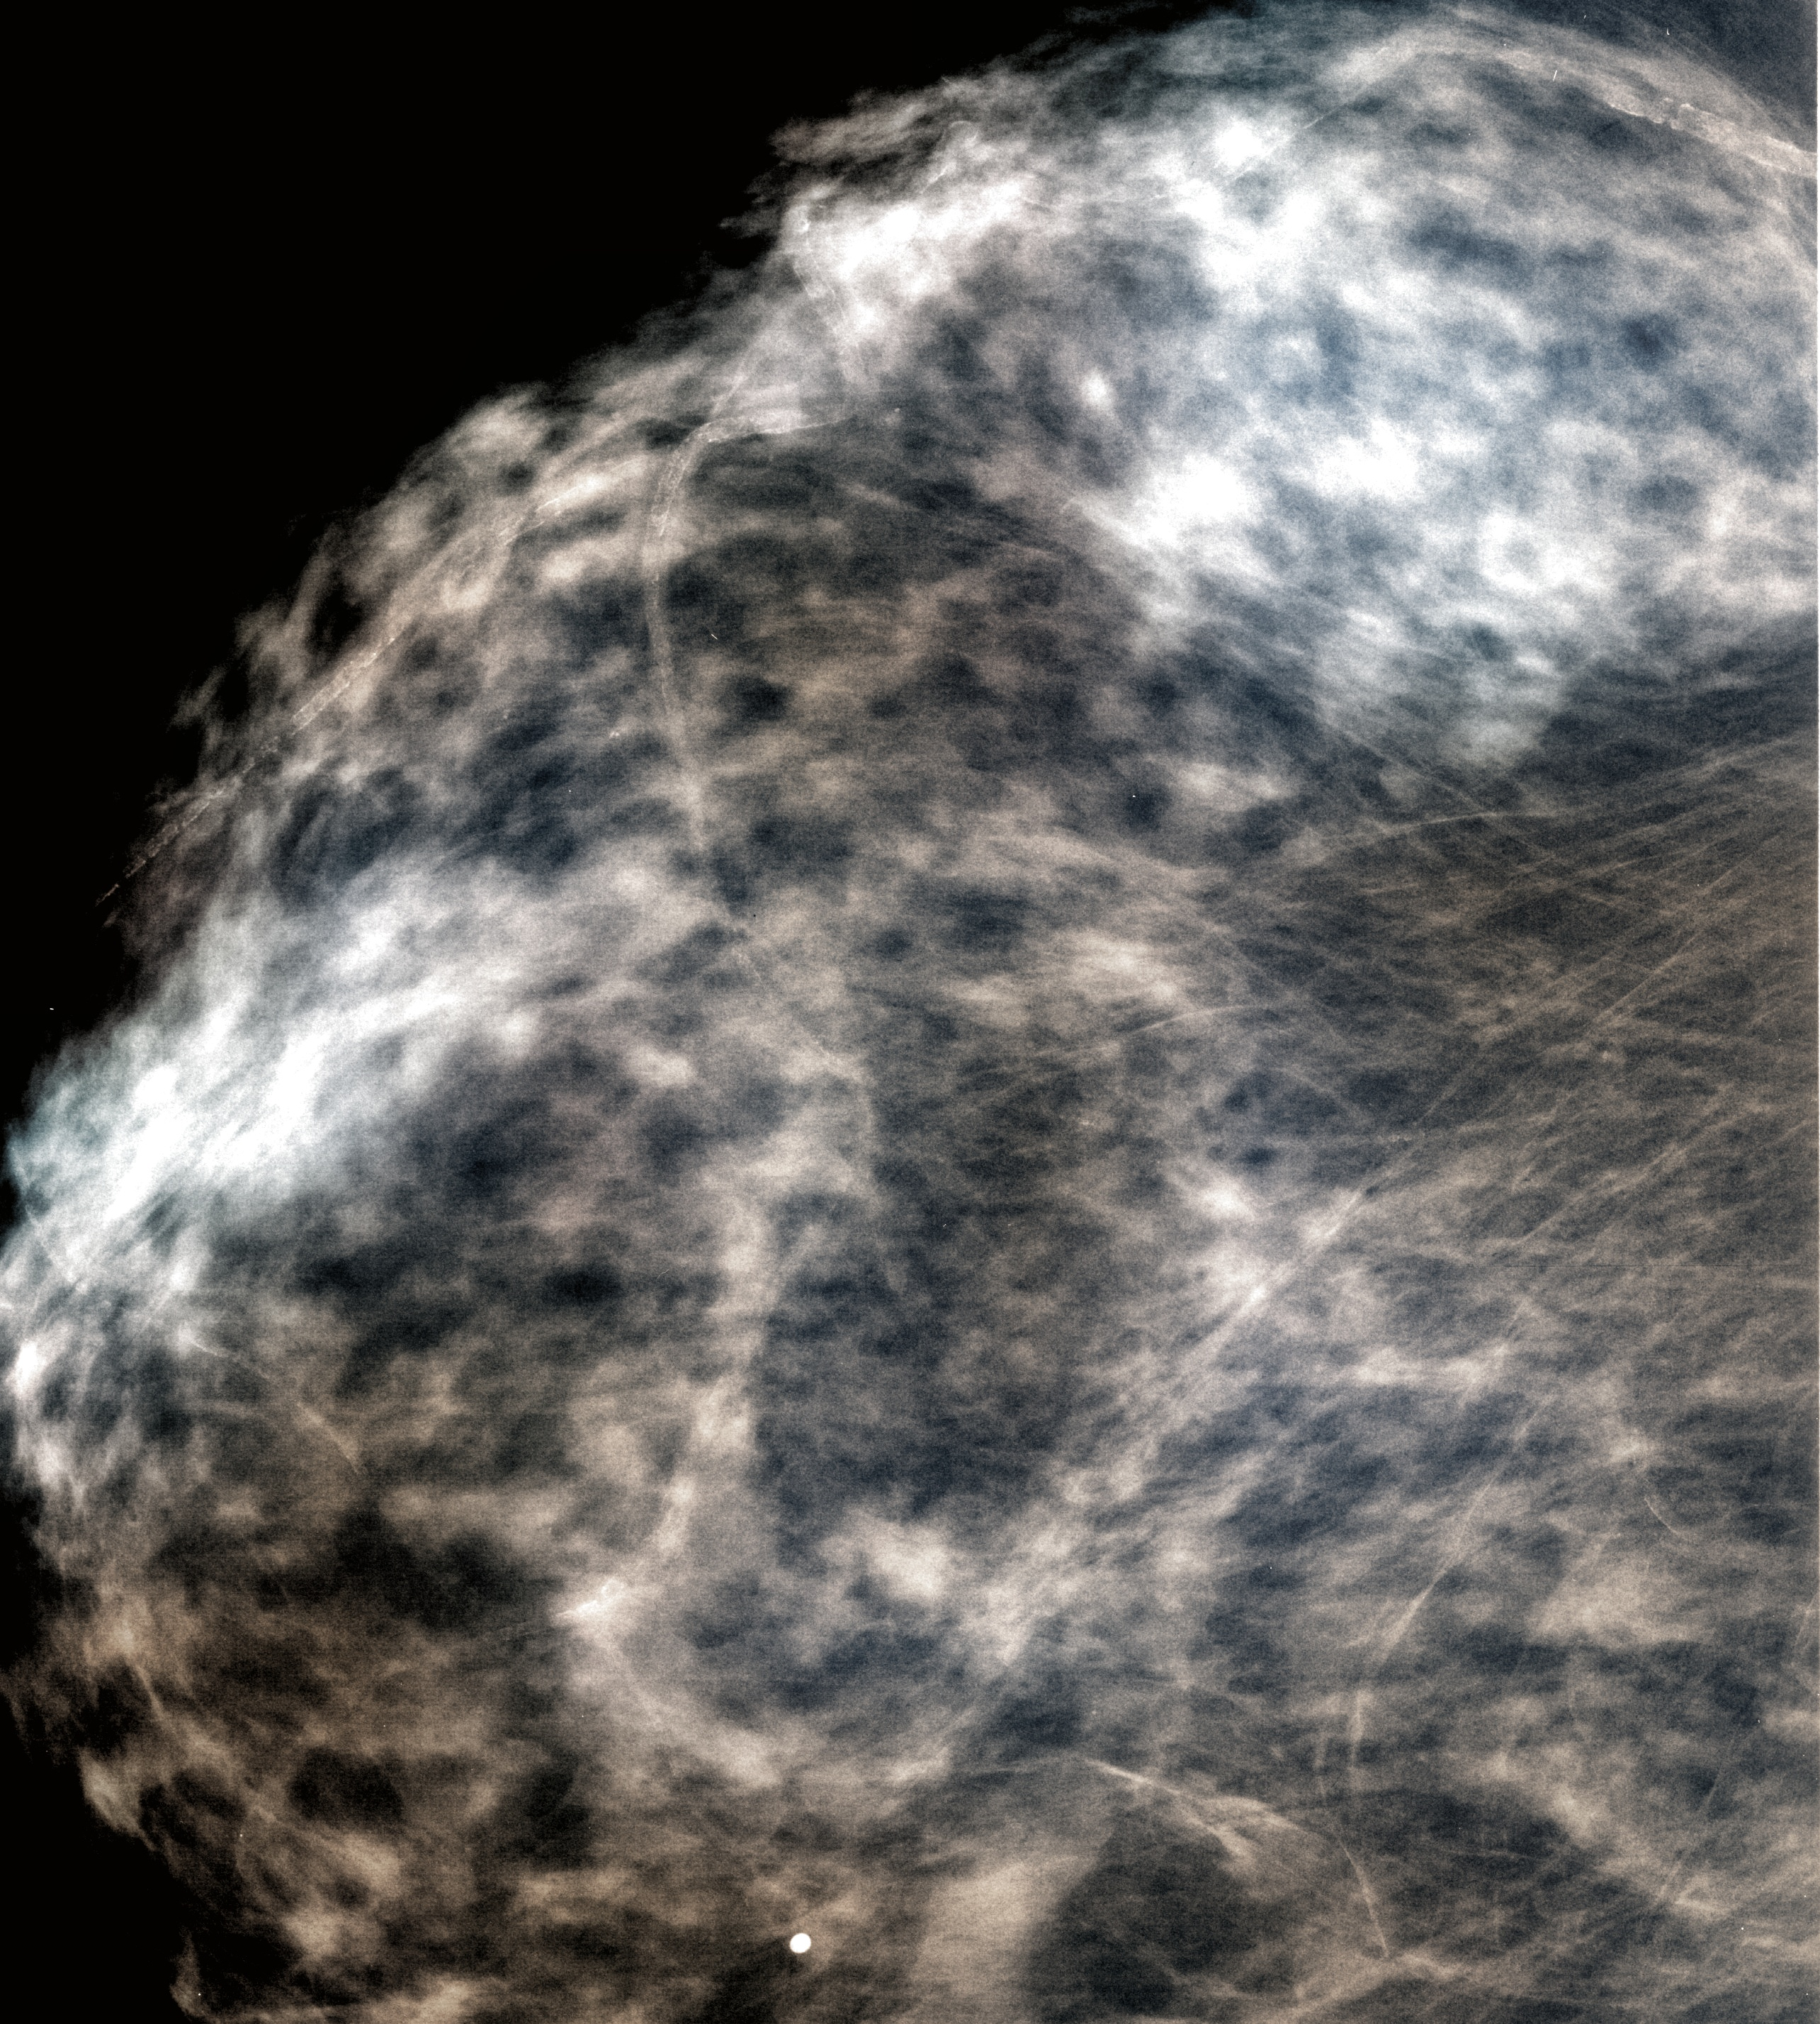tumor: (538, 0, 1809, 1650), (0, 374, 687, 1377), (1586, 1349, 1820, 1588), (726, 1892, 845, 2024)
